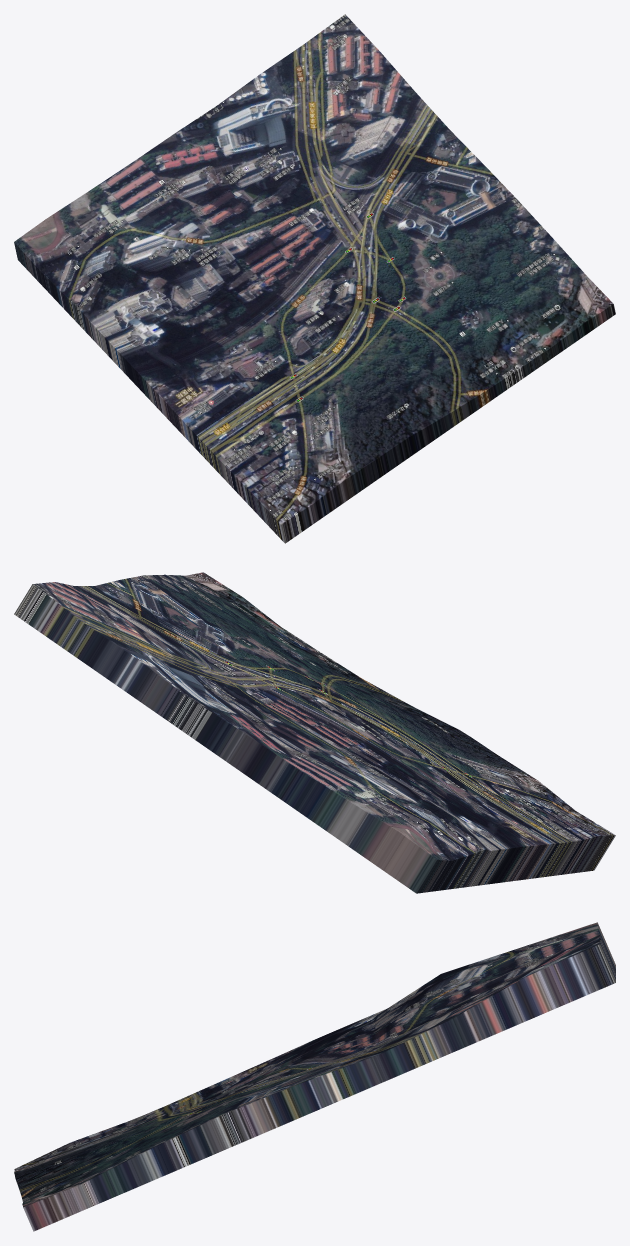
The picture shows the model from 3 angles, top to bottom: view 1: azimuth 30°, elevation 25°; view 2: azimuth 150°, elevation 25°; view 3: azimuth 270°, elevation 25°; orthographic projection. The views are drawn at different scales.
Visible parts, largest first — view 1: 0_6_14; view 2: 0_6_14; view 3: 0_6_14.
Part boxes in pixels (<box>): 0_6_14: <box>14,14,615,543</box>; 0_6_14: <box>14,572,615,893</box>; 0_6_14: <box>14,922,615,1231</box>.
Bounding box in the file's own units: 608 × 461 × 560.
1 material, 1 textured.
